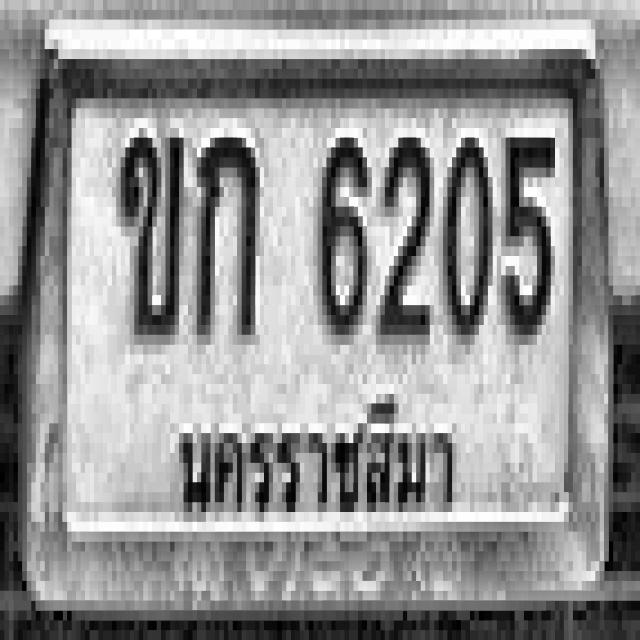license-plate: (36, 43, 609, 598)
